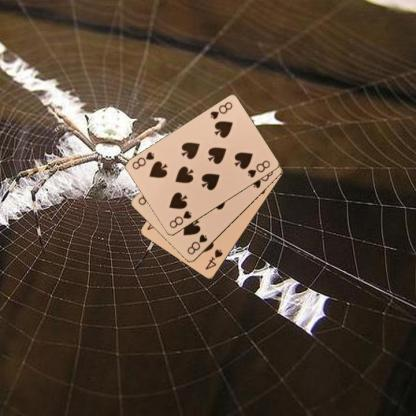4s: (202, 247, 224, 271)
8s: (166, 208, 193, 230), (207, 99, 234, 121), (185, 232, 208, 256)
